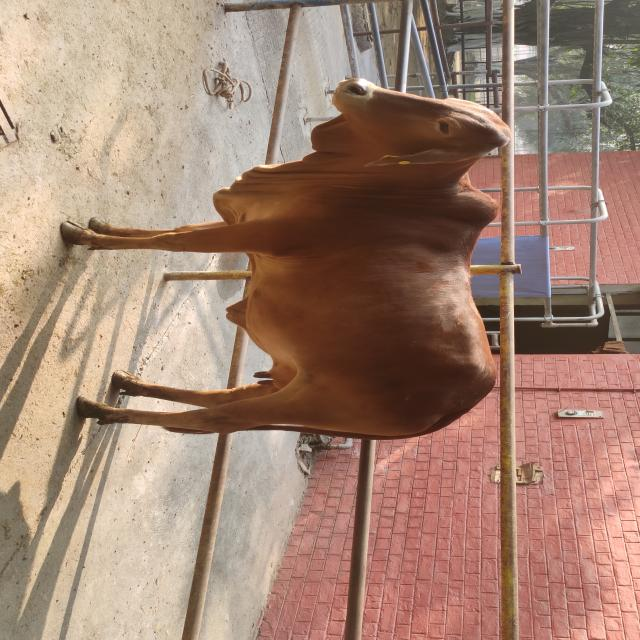cow: (59, 77, 512, 440)
hump: (466, 184, 504, 241)
